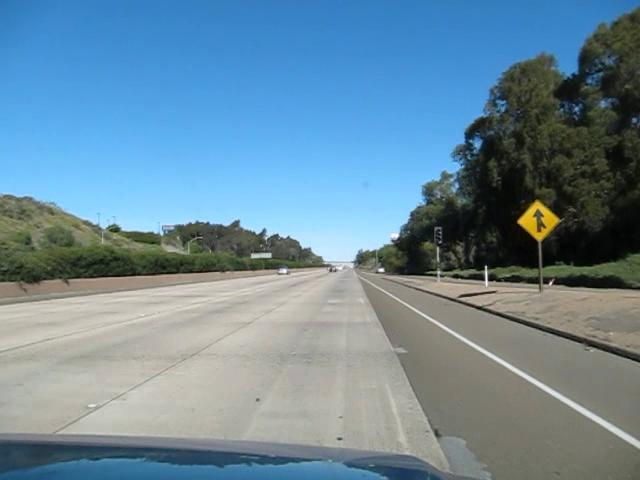merge: (516, 198, 560, 242)
